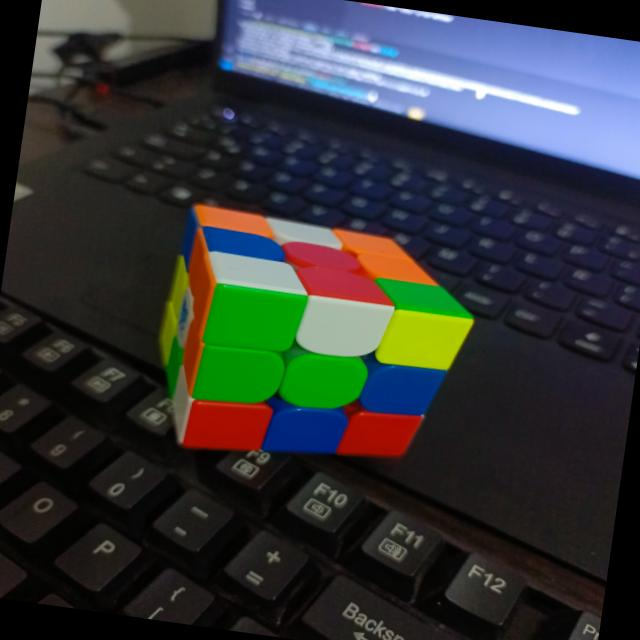rubik: (142, 198, 486, 485)
